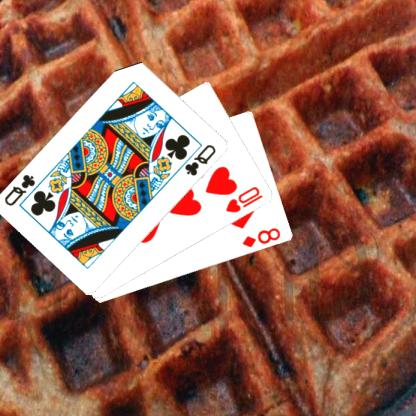10H: (225, 184, 266, 214)
8D: (241, 225, 284, 249)
QC: (184, 142, 219, 178), (4, 172, 39, 208)
